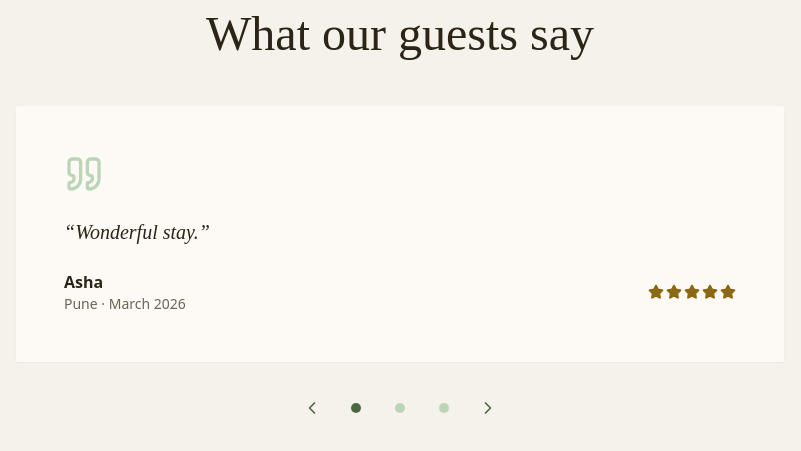
Test case: testimonial carousel › wraps at both ends rather than dead-ending
The image size is (801, 451).
Click the button named "Previous review" at (312, 408), box x1=290 y1=386 x2=334 y2=430
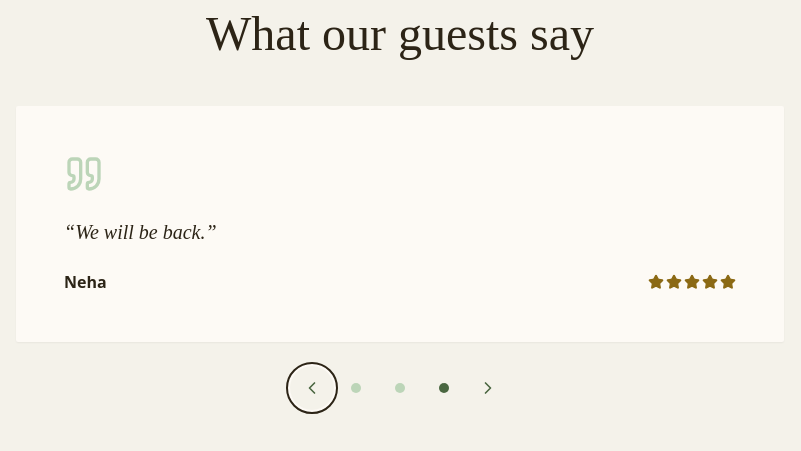
Expected: the text "“We will be back.”" is shown, x1=64 y1=221 x2=217 y2=243
Click the button named "Next review" at (488, 388), box x1=466 y1=366 x2=510 y2=410
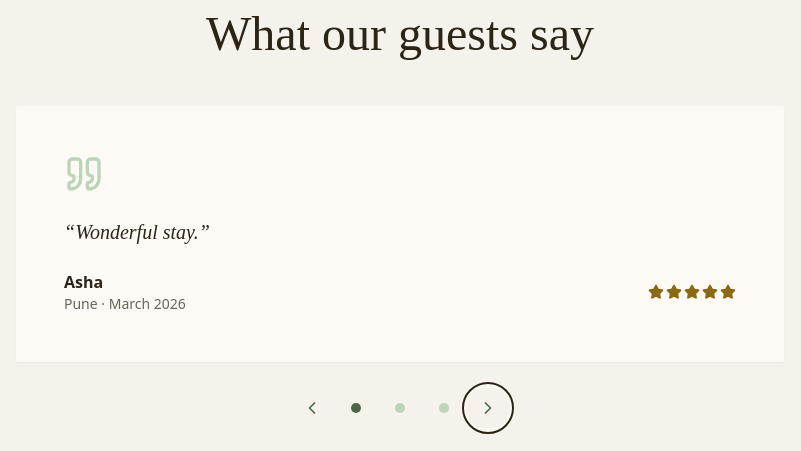
Expected: the text "“Wonderful stay.”" is shown, x1=64 y1=221 x2=210 y2=243
